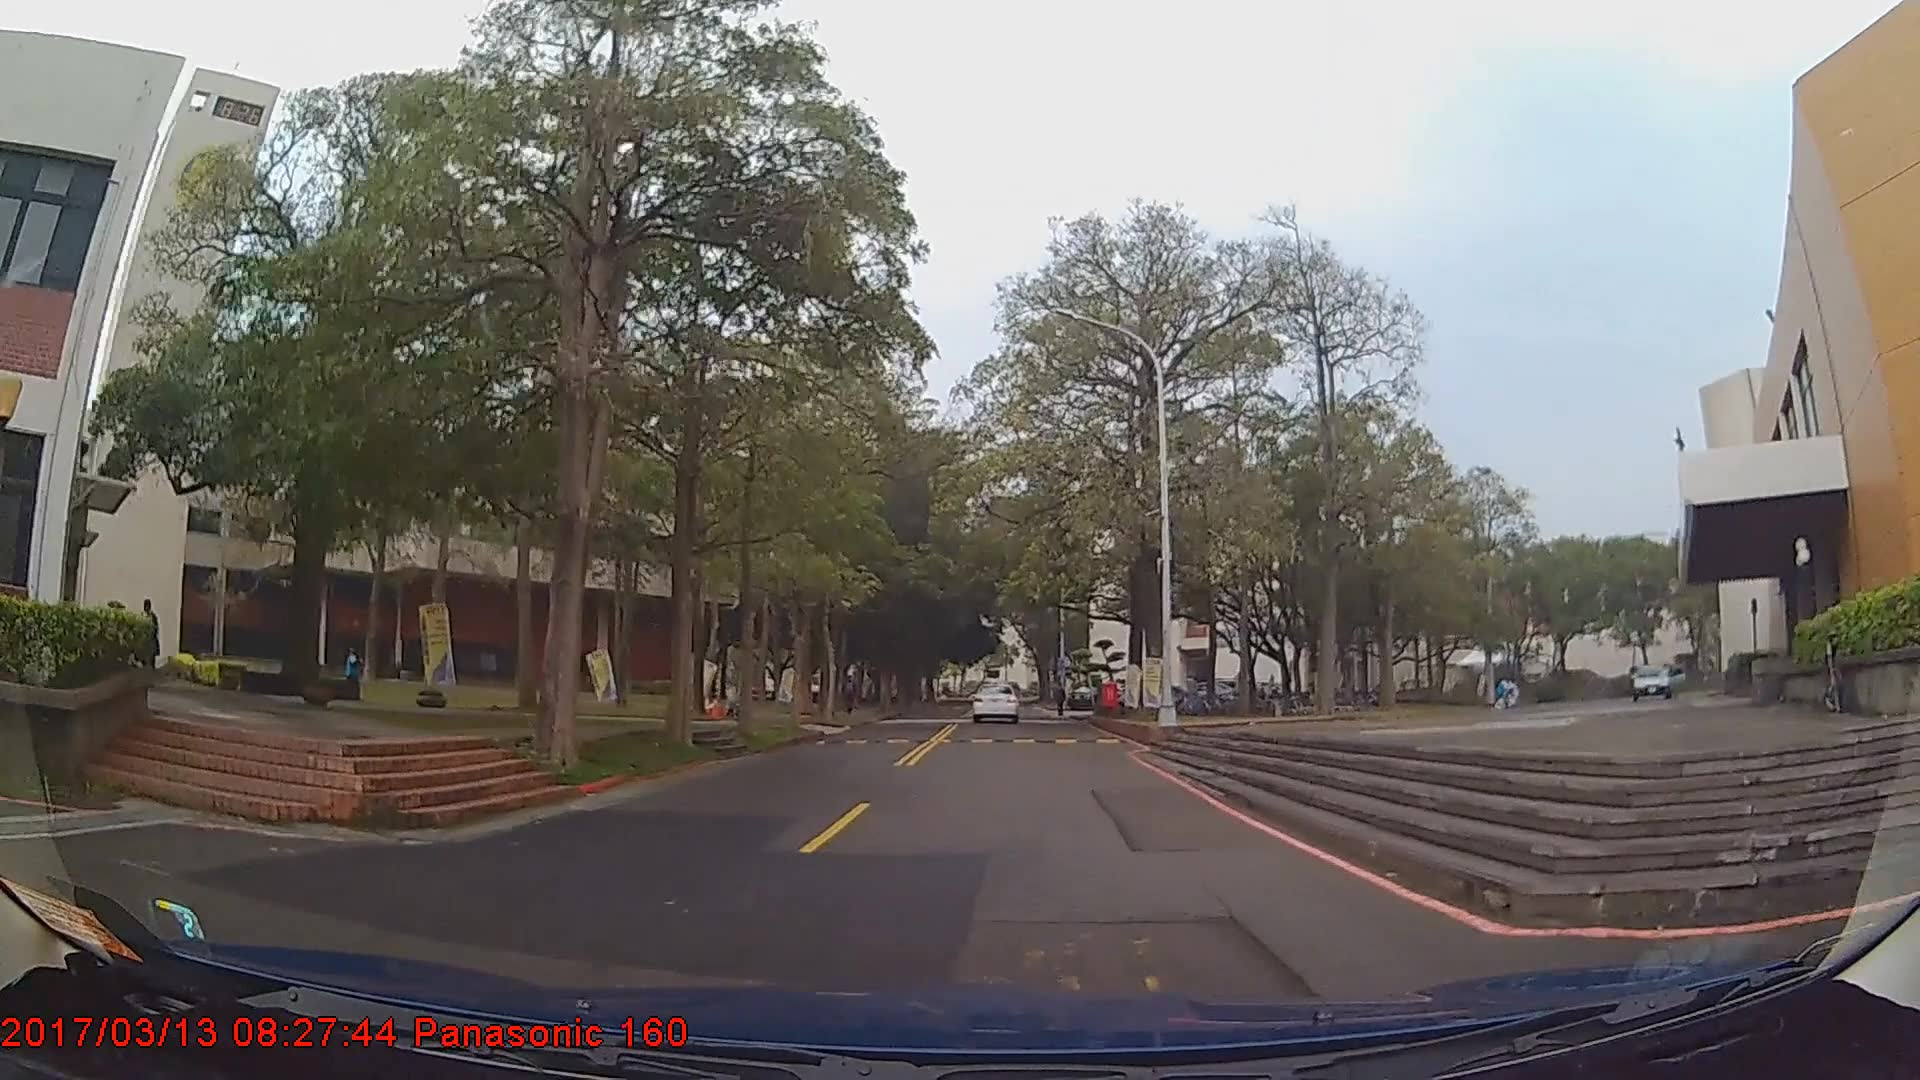vehicle: (1625, 658, 1692, 700), (972, 676, 1021, 720)
